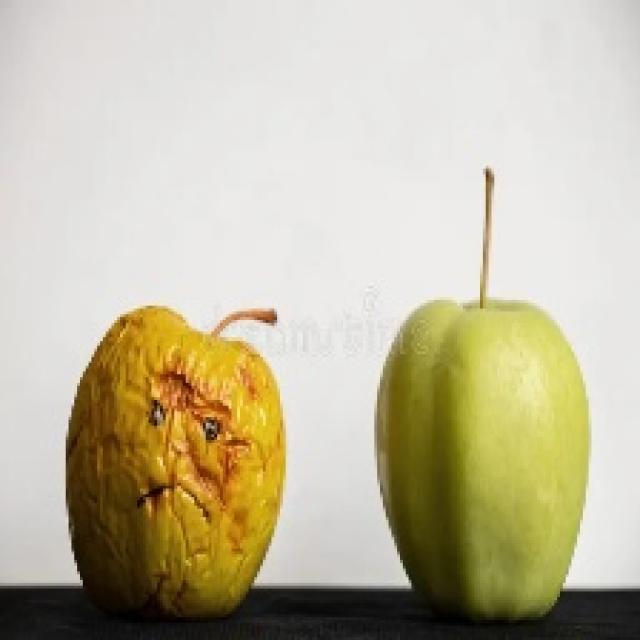50-_ripeness: (370, 296, 596, 625)
rotten_apple: (68, 310, 281, 614)
